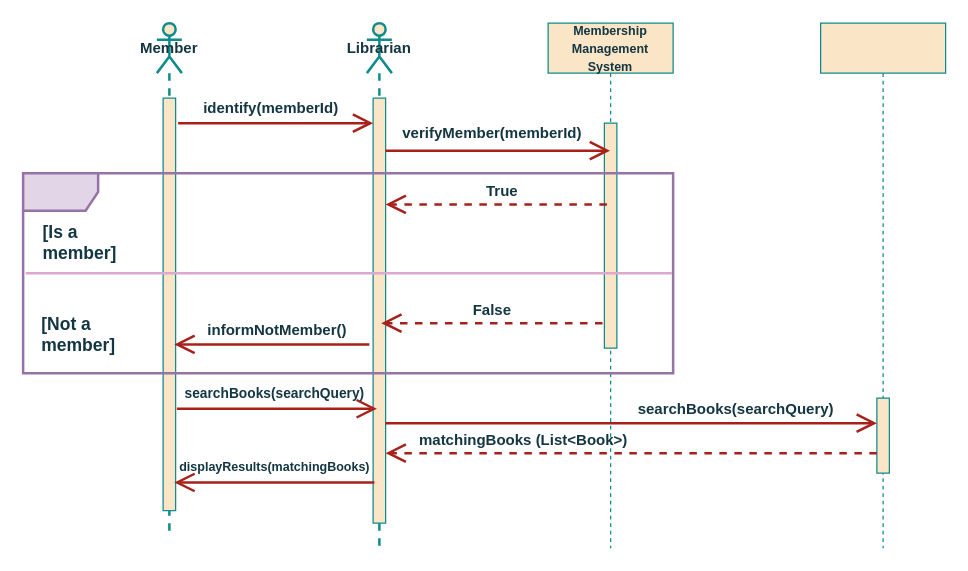
Image size: 968x571. Some labels were removed from this diagram. Here are the shapes that lost their labels. From the top down, the box of each, then its label:
(21, 171, 674, 374): Alt
(819, 22, 946, 548): Catalog
